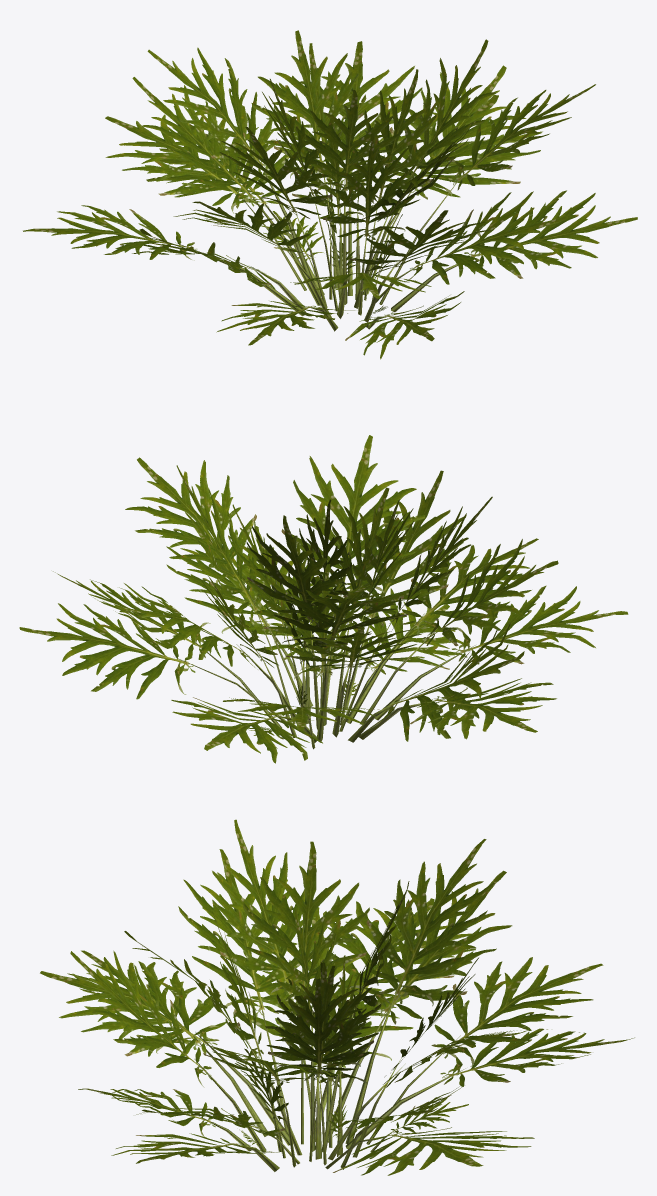
The model's file is Lacy_Tree_Philodendron_Model_0.obj.
3 renders of one model, top to bottom at view 1: azimuth 30°, elevation 25°; view 2: azimuth 150°, elevation 25°; view 3: azimuth 270°, elevation 25°, orthographic. The views are drawn at different scales.
Parts seen in each view (by area): view 1: Foliage; view 2: Foliage; view 3: Foliage.
Part boxes in pixels (x1,y1,x2,y2): Foliage: (23,30,637,359); Foliage: (19,435,628,763); Foliage: (40,819,634,1175).
Bounding box in the file's own units: 2.27 × 1 × 2.02.
1 material, 1 textured.
